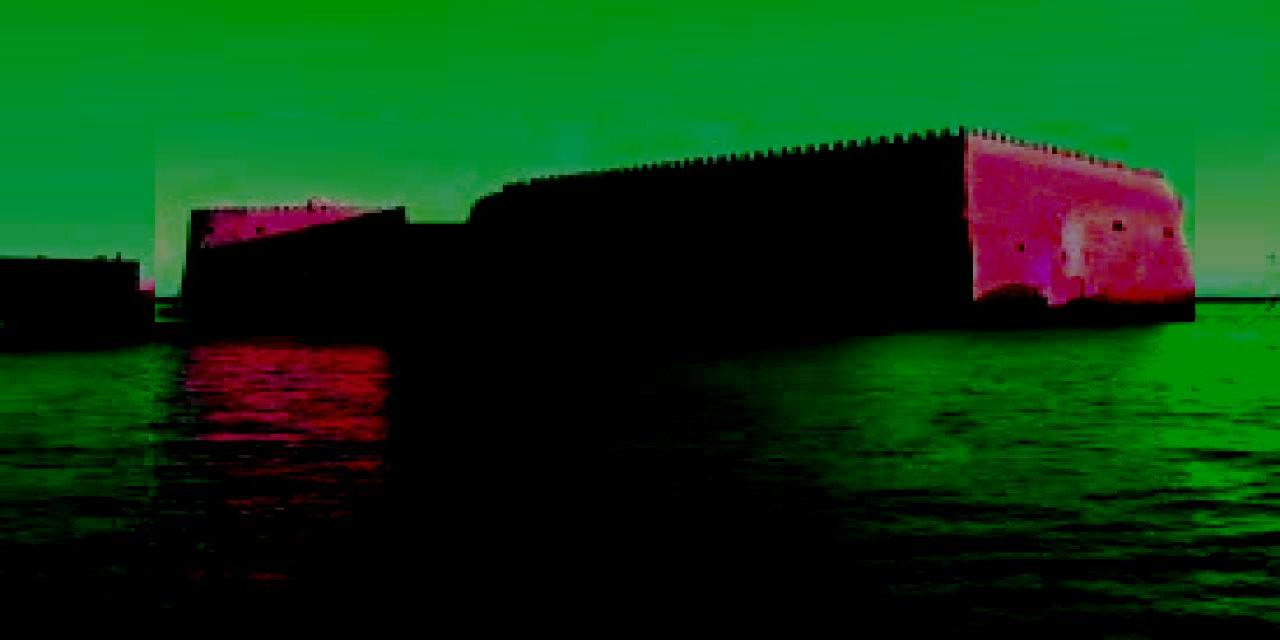Kules: (156, 122, 1196, 323)
